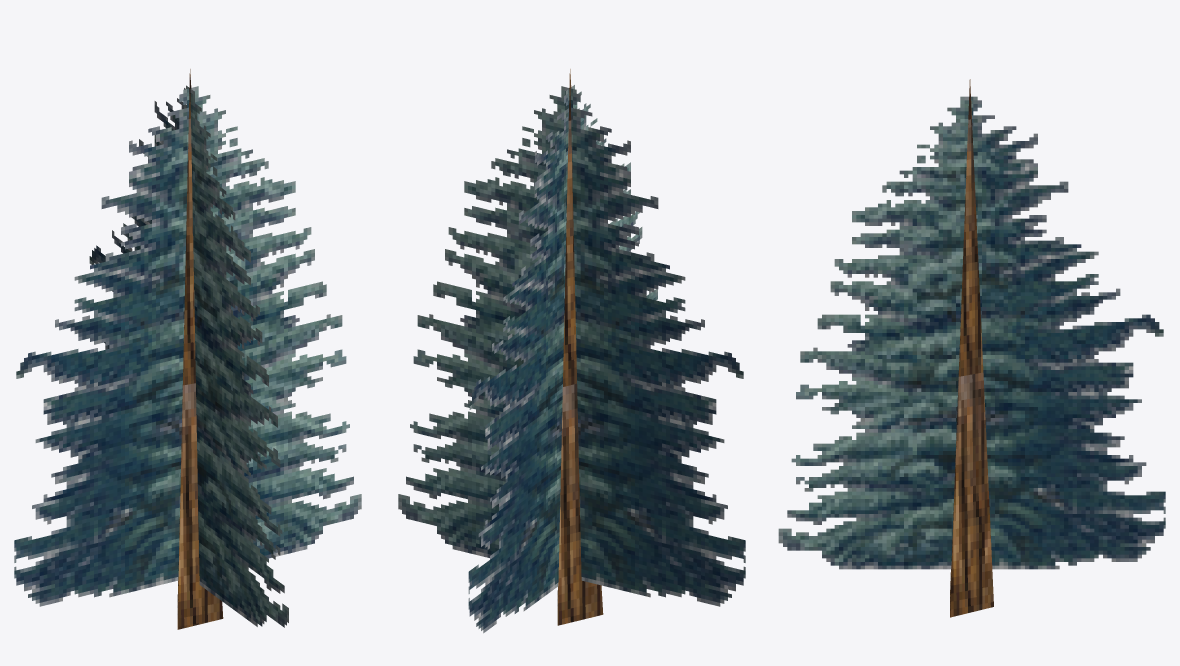
The model's file is ps1_trees.glb.
The picture shows the model from 3 angles, left to right: view 1: azimuth 30°, elevation 25°; view 2: azimuth 150°, elevation 25°; view 3: azimuth 270°, elevation 25°; orthographic projection. The views are drawn at different scales.
Visible parts, largest first — view 1: Plane, Plane.001, SpruceTree-col; view 2: Plane, Plane.001, SpruceTree-col; view 3: Plane.001, SpruceTree-col.
Boxes of the visible parts, <box> form: Plane: <box>14,86,361,606</box>; Plane.001: <box>89,85,288,627</box>; SpruceTree-col: <box>177,69,223,629</box>; Plane: <box>398,86,745,606</box>; Plane.001: <box>468,85,657,633</box>; SpruceTree-col: <box>557,69,603,625</box>; Plane.001: <box>778,96,1165,569</box>; SpruceTree-col: <box>950,79,993,617</box>.
Bounding box in the file's own units: 2 × 3 × 2.
Materials: 2 (2 with a texture image).
